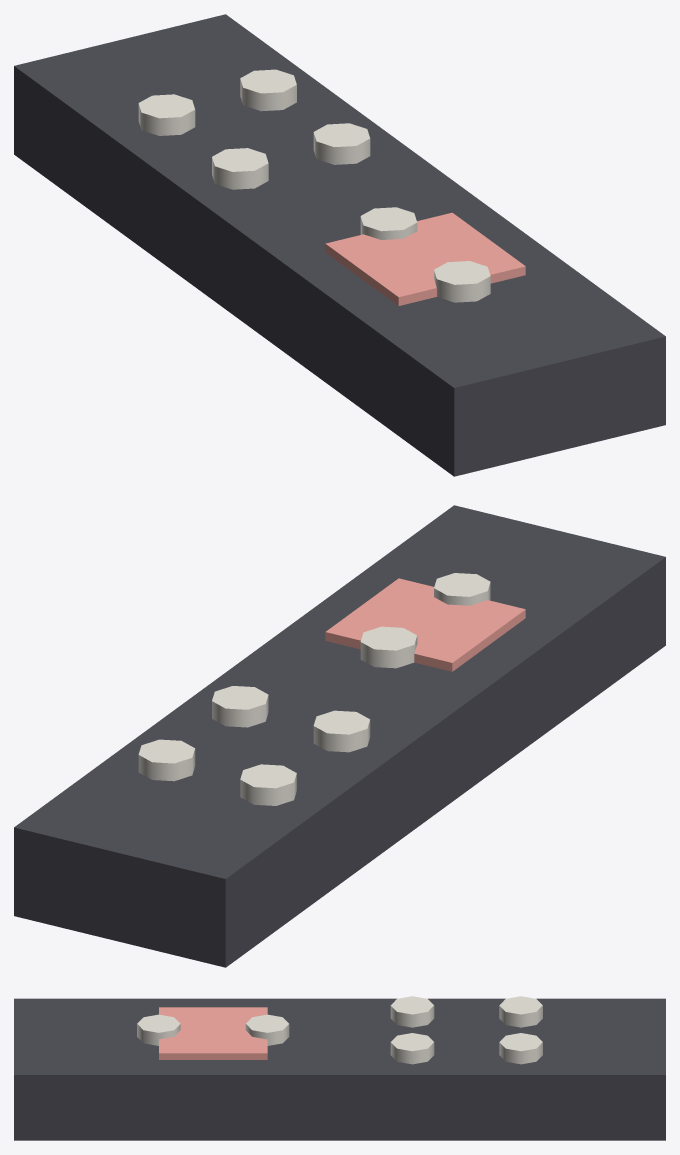
The model's file is bb_set_remote.fbx.
3 views of the same model, one above another, from view 1: azimuth 30°, elevation 25°; view 2: azimuth 150°, elevation 25°; view 3: azimuth 270°, elevation 25° (orthographic). The views are drawn at different scales.
Parts seen in each view (by area): view 1: bb_set_remote; view 2: bb_set_remote; view 3: bb_set_remote.
Boxes of the visible parts, box(x1,y1,x2,y2) form: bb_set_remote: box(14, 14, 665, 476); bb_set_remote: box(14, 505, 665, 967); bb_set_remote: box(14, 996, 665, 1140).
Size of the model in its own units: 0.05 by 0.024 by 0.18.
